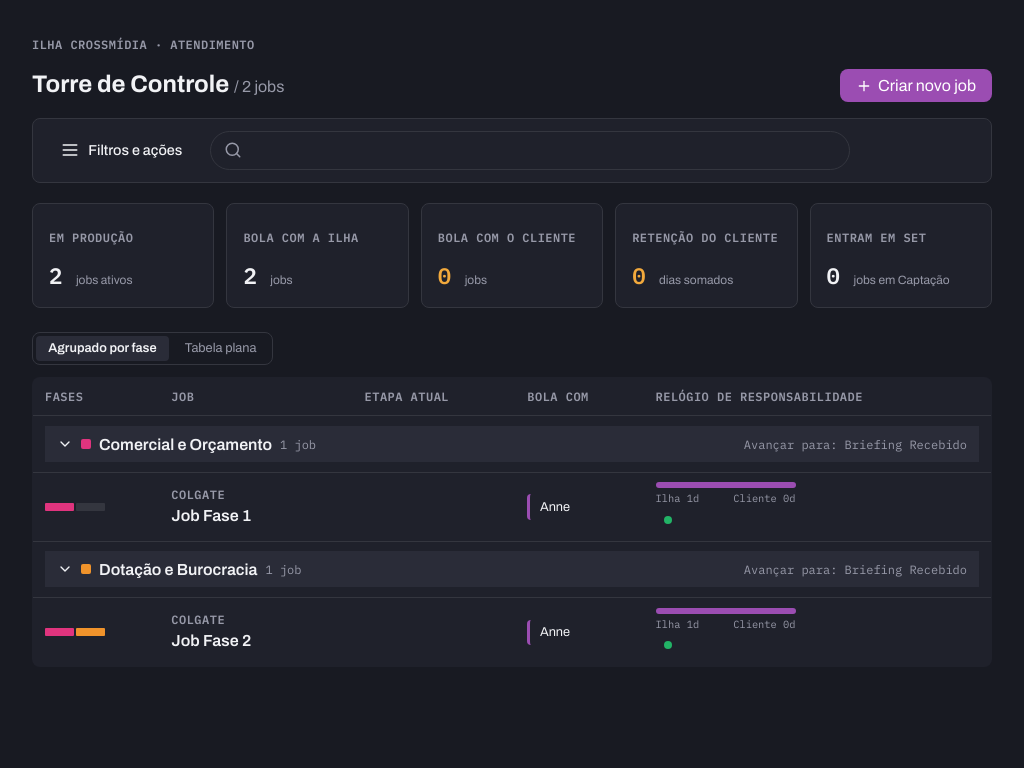
Test: Board › filters the table when a fase filter row is clicked
Expected: the text "Job Fase 1" is shown, [171,504,251,528]
Expected: the text "Job Fase 2" is shown, [171,629,251,653]
Click the button "Filtros e ações": (121, 150) [49,132,194,168]
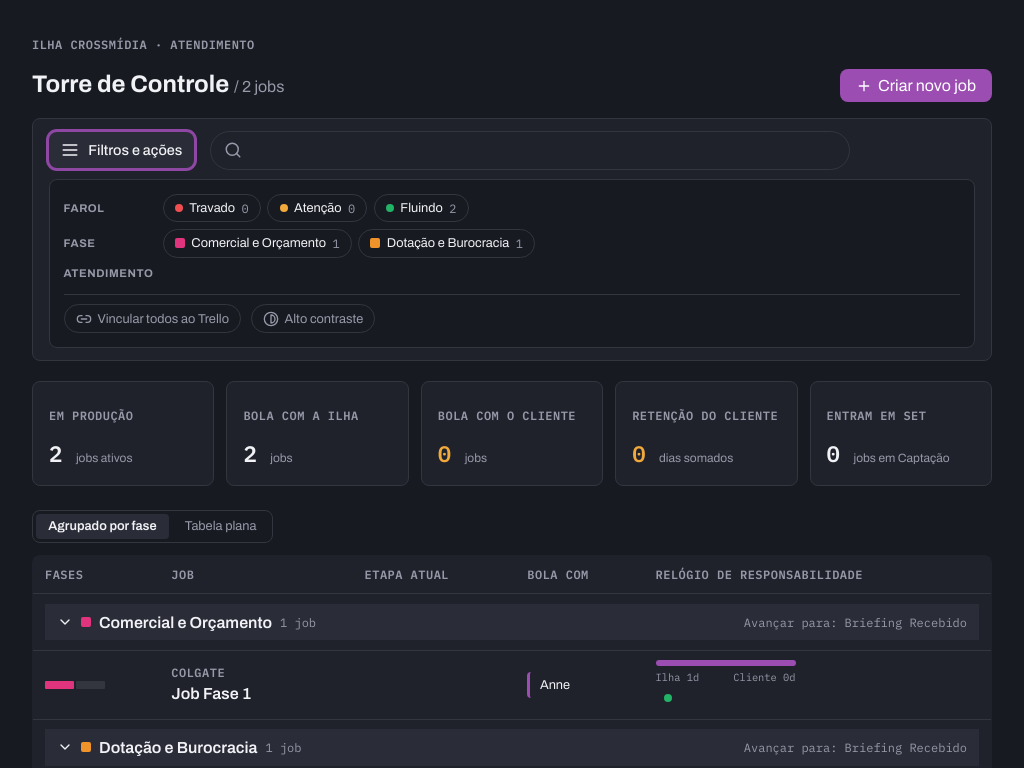
Click the button "Dotação e Burocracia 1": (447, 243) [358,229,535,258]
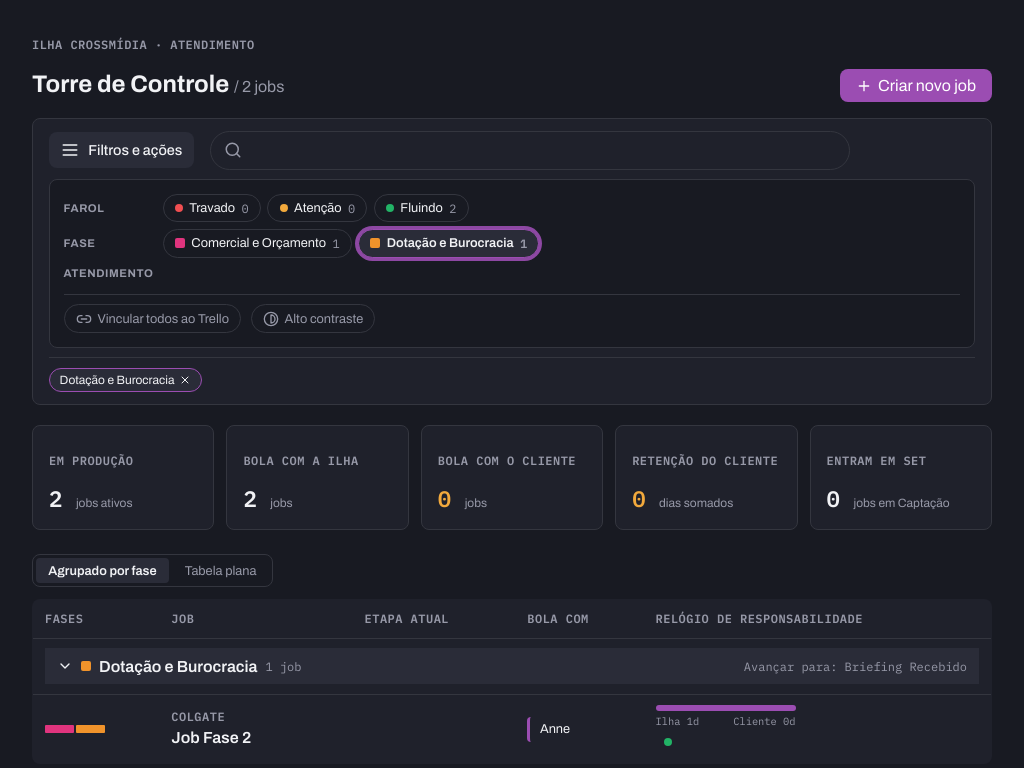
Expected: the text "Job Fase 2" is shown, [171,726,251,750]
Result: the link "Job Fase 1" is gone
